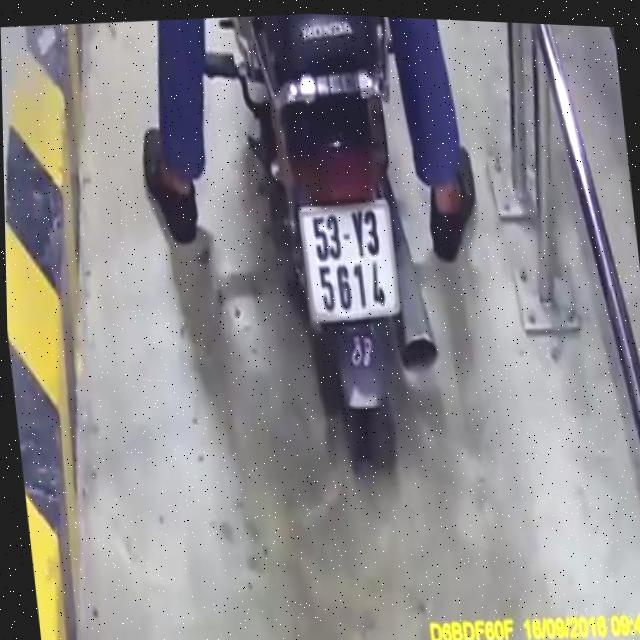motorcycle: (208, 9, 459, 482)
plate: (292, 195, 411, 329)
